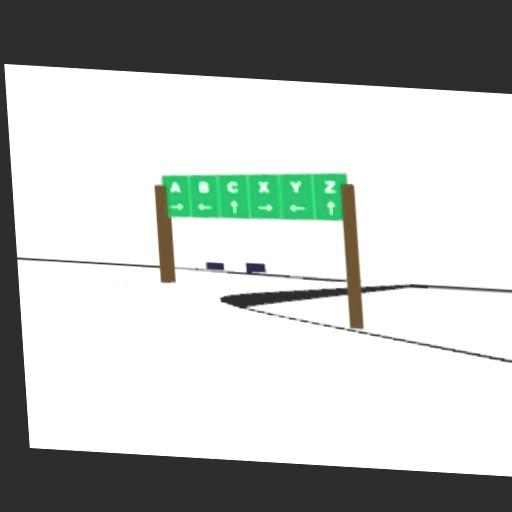A: (168, 181, 181, 195)
B: (198, 180, 210, 195)
C: (226, 180, 240, 194)
Left: (287, 203, 307, 214), (195, 201, 213, 212)
Right: (256, 202, 274, 214), (168, 201, 184, 212)
Straight: (228, 198, 242, 216), (326, 200, 337, 216)
X: (258, 179, 271, 193)
Y: (288, 179, 302, 194)
Z: (322, 179, 338, 194)
